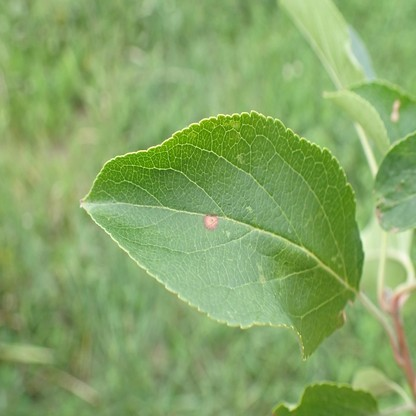frogeye_leaf_spot: (203, 214, 217, 228), (391, 101, 400, 122)
